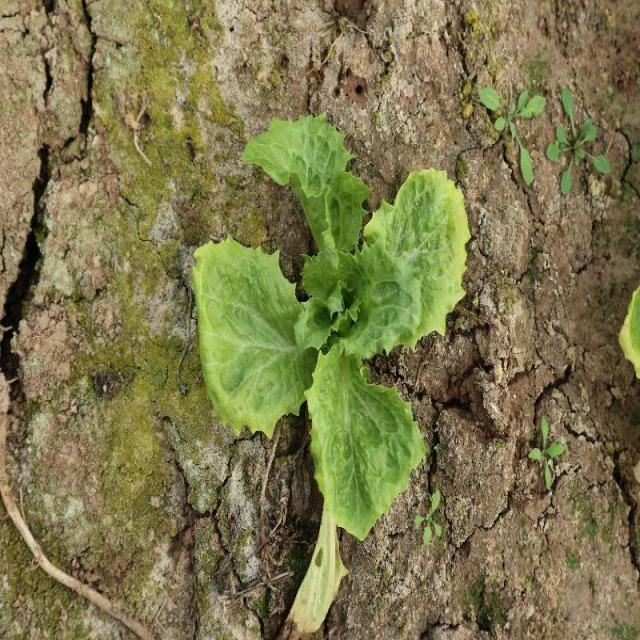crop: (188, 114, 472, 543)
